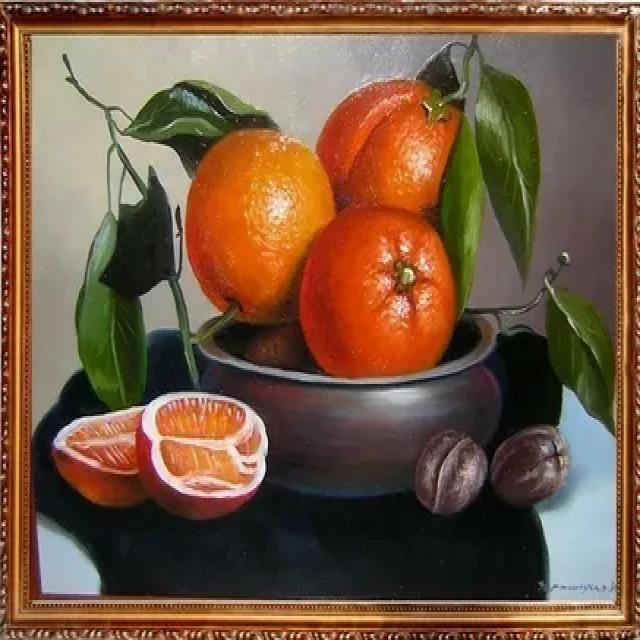orange: (294, 205, 458, 392)
